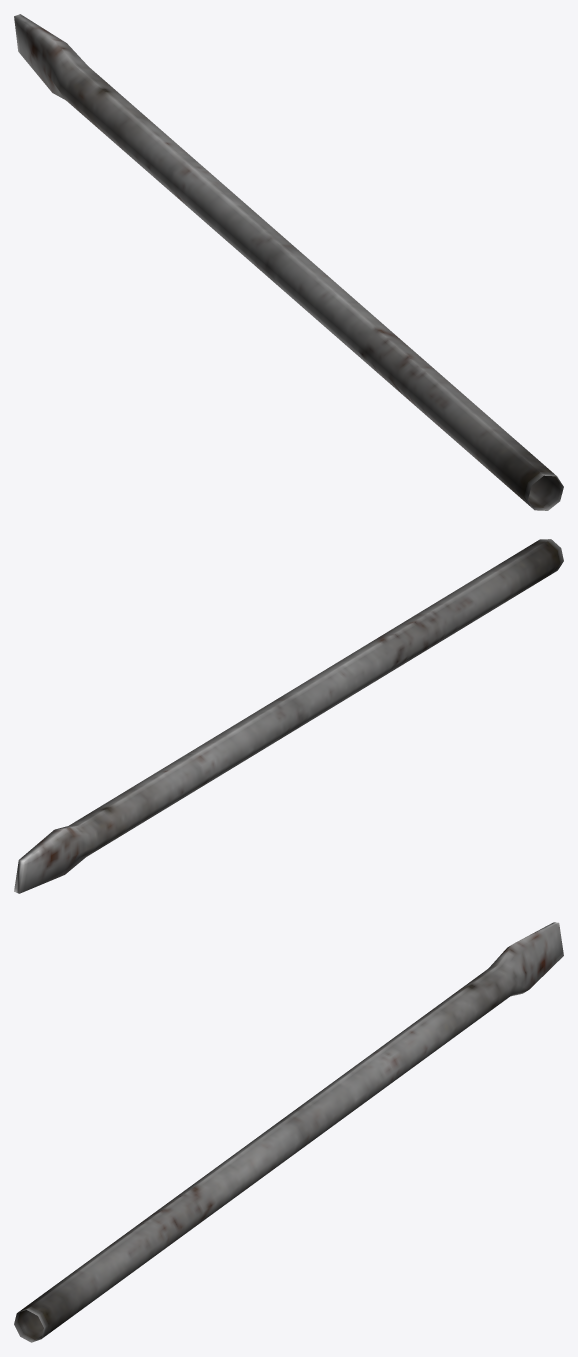
File: Screwdriver_L_Shaft_low.obj
The picture shows the model from 3 angles, top to bottom: view 1: azimuth 30°, elevation 25°; view 2: azimuth 150°, elevation 25°; view 3: azimuth 330°, elevation 25°; orthographic projection. The views are drawn at different scales.
Size of the model in its own units: 0.00867 by 0.00959 by 0.122.
1 material, 1 textured.
